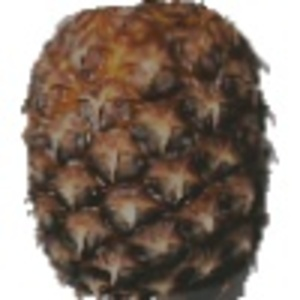abacaxi: (19, 2, 272, 295)
